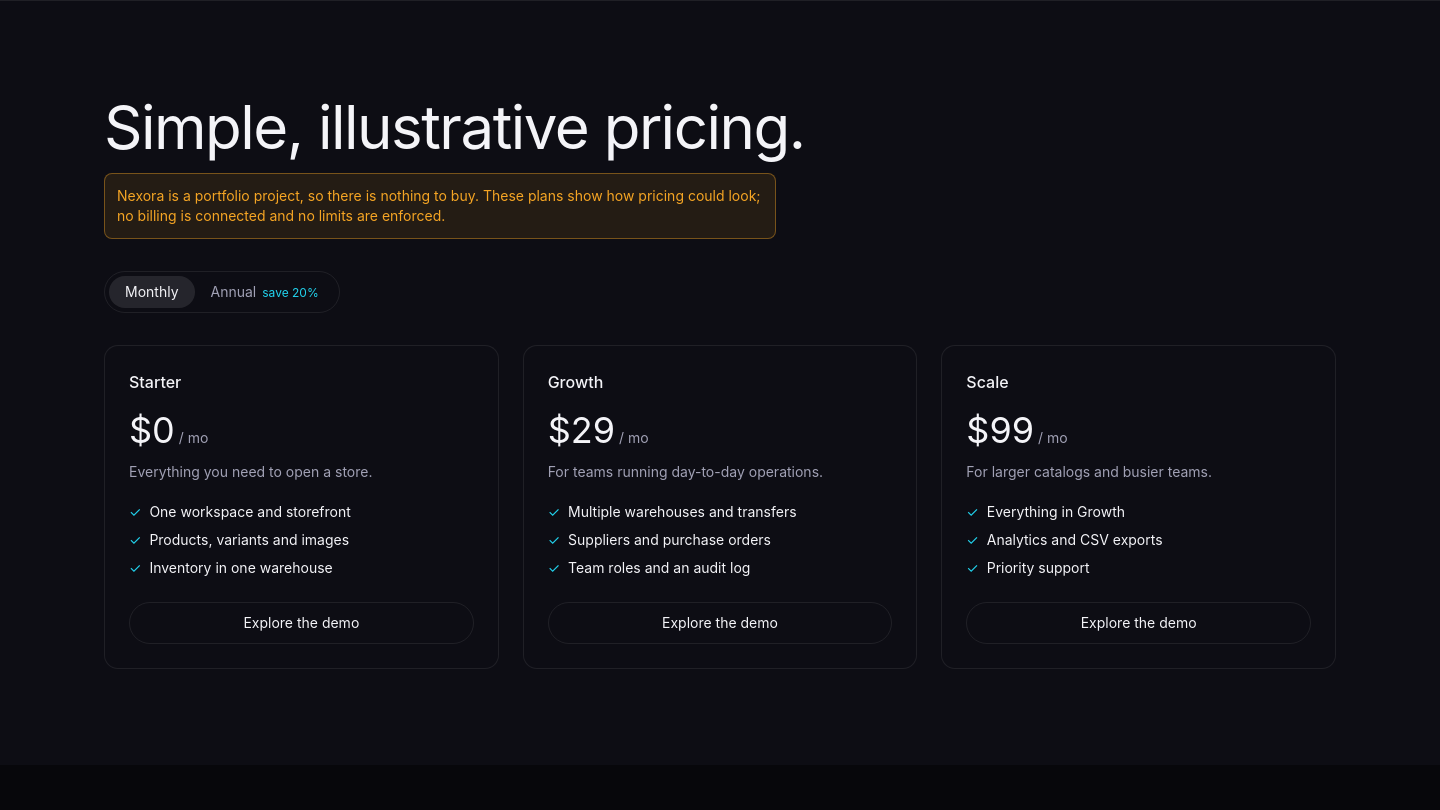
Test: pricing › switches billing period, exposes state to assistive tech, and says the prices are illustrative
Expected: the text "nothing to buy" is shown, [117,187,761,224]
Expected: the element named "29 dollars per month" is shown, [548,408,649,452]
Click the button "annual" at {"x": 265, "y": 292}, box [194,276,335,308]
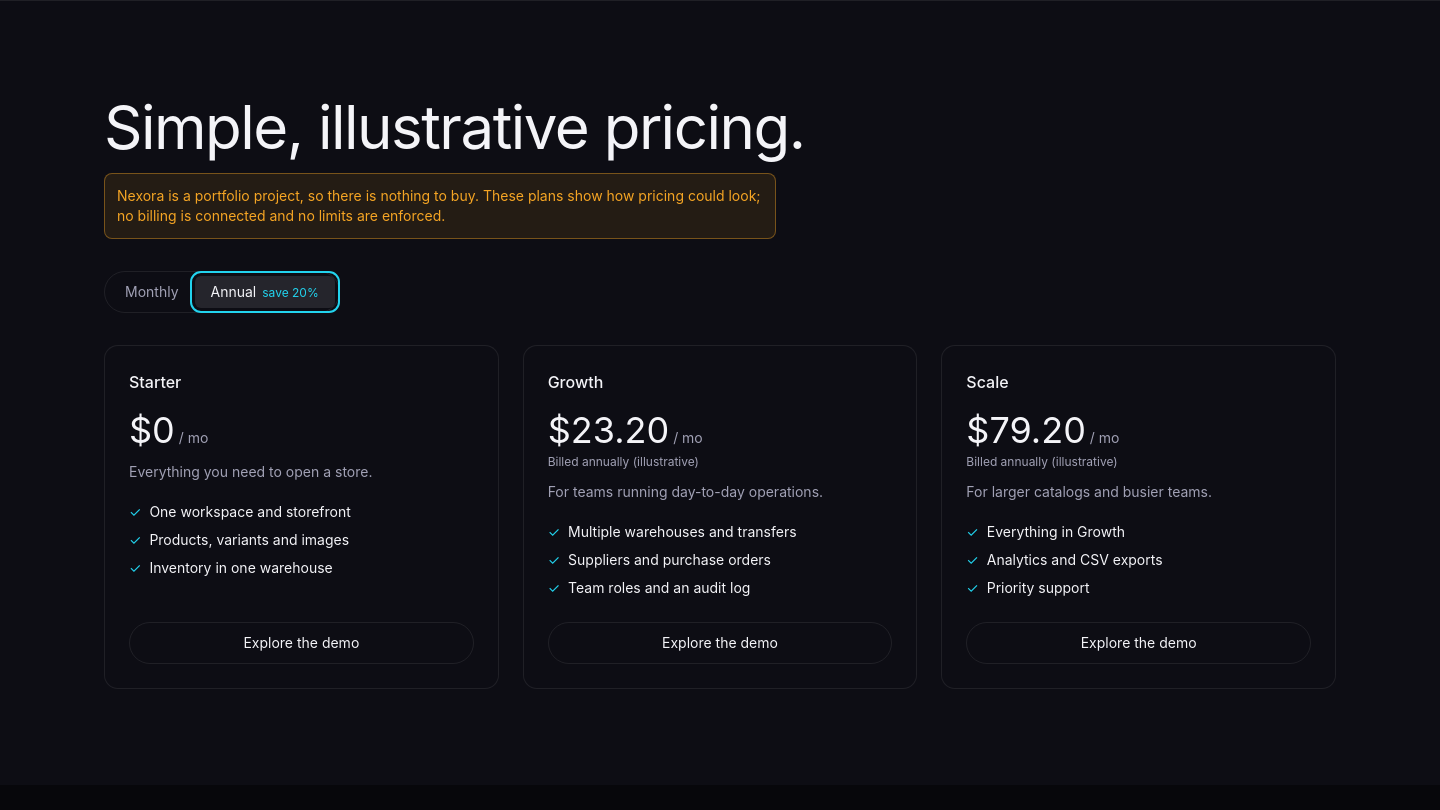
Expected: the element named "23.2 dollars per month" is shown, [548,408,703,452]
Expected: the element named "79.2 dollars per month" is shown, [966,408,1120,452]
Expected: the text "Billed annually (illustrative)" is shown 2 times, [548,454,699,469]; [966,454,1118,469]
Press Tab
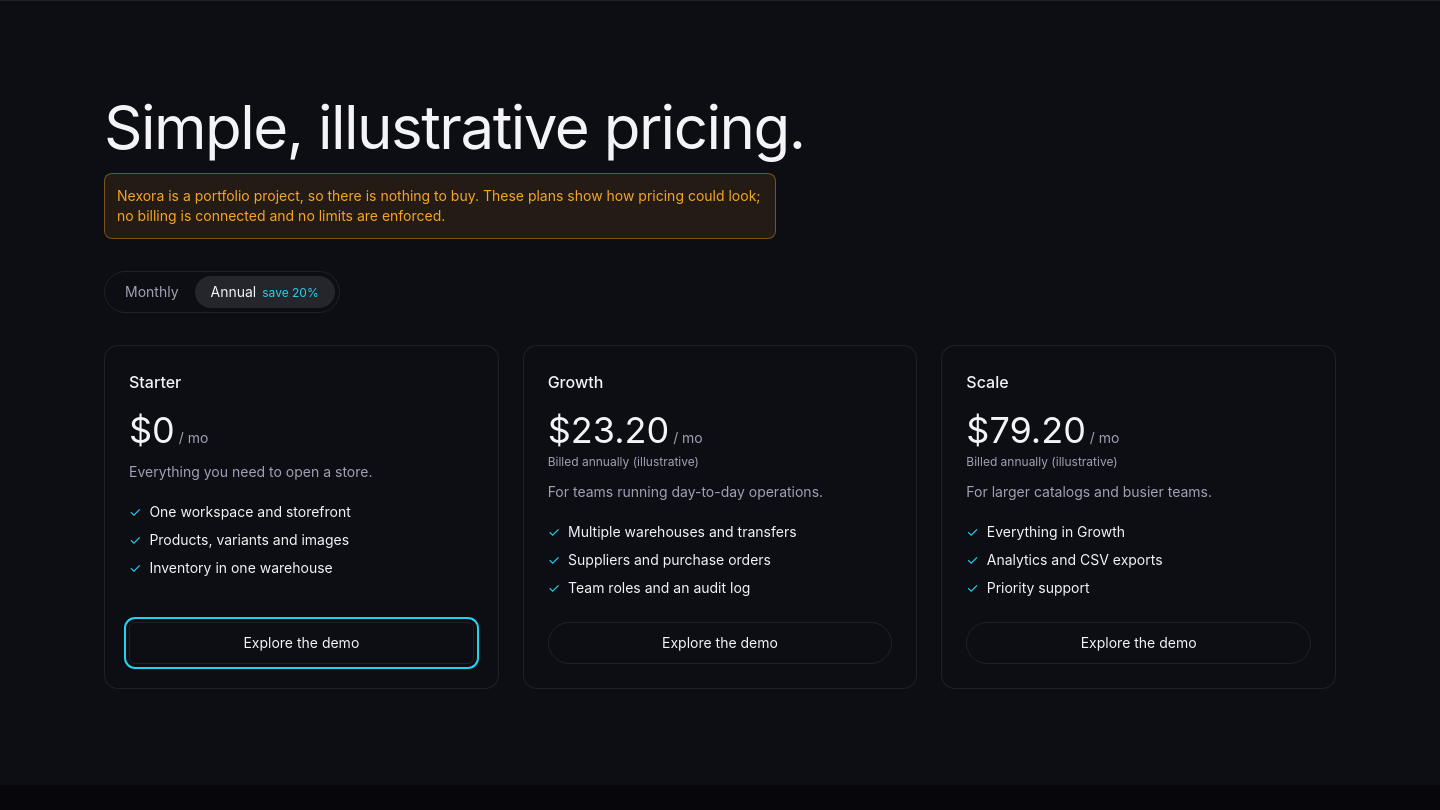
Click the button "monthly" at {"x": 152, "y": 292}, box [109,276,194,308]
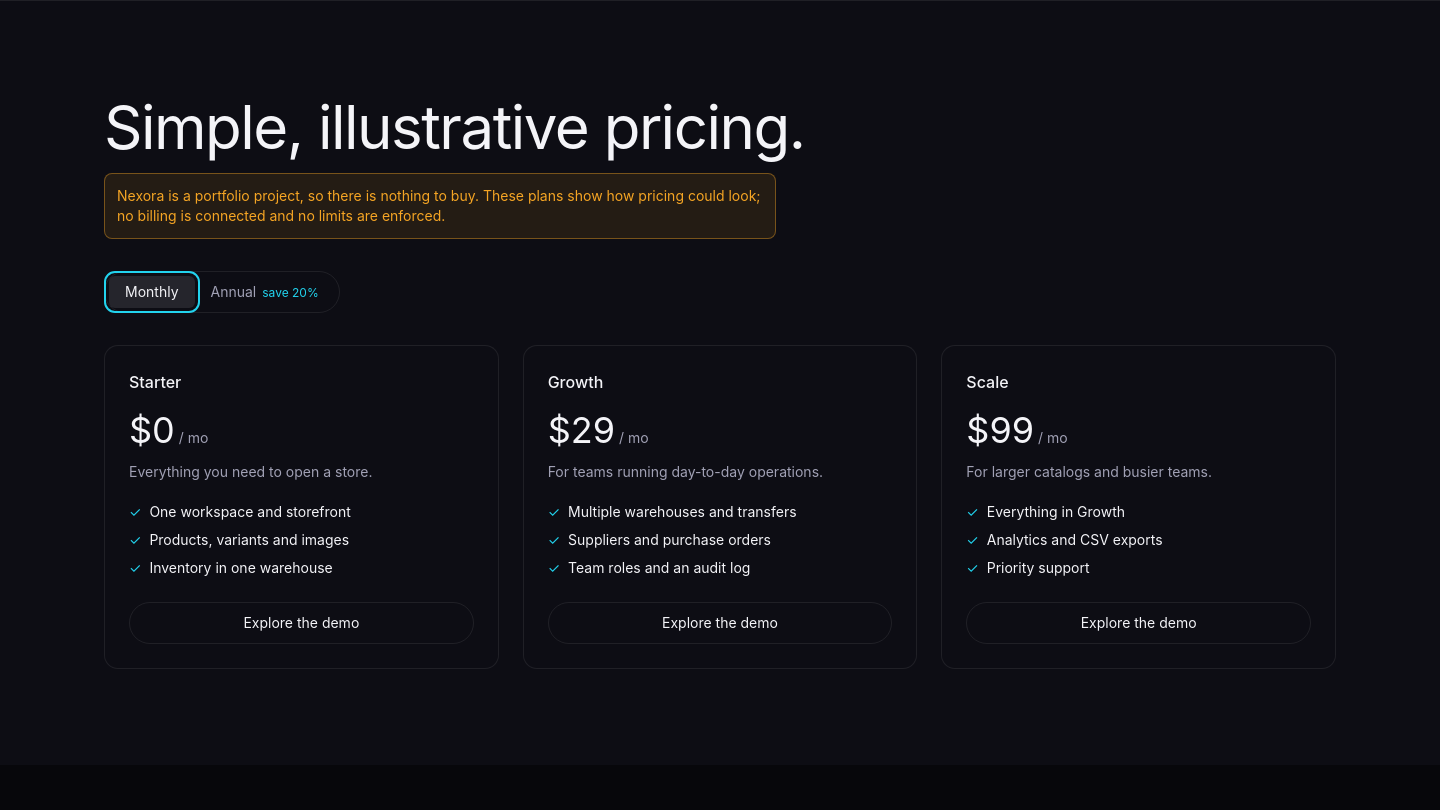
Expected: the element named "29 dollars per month" is shown, [548,408,649,452]
